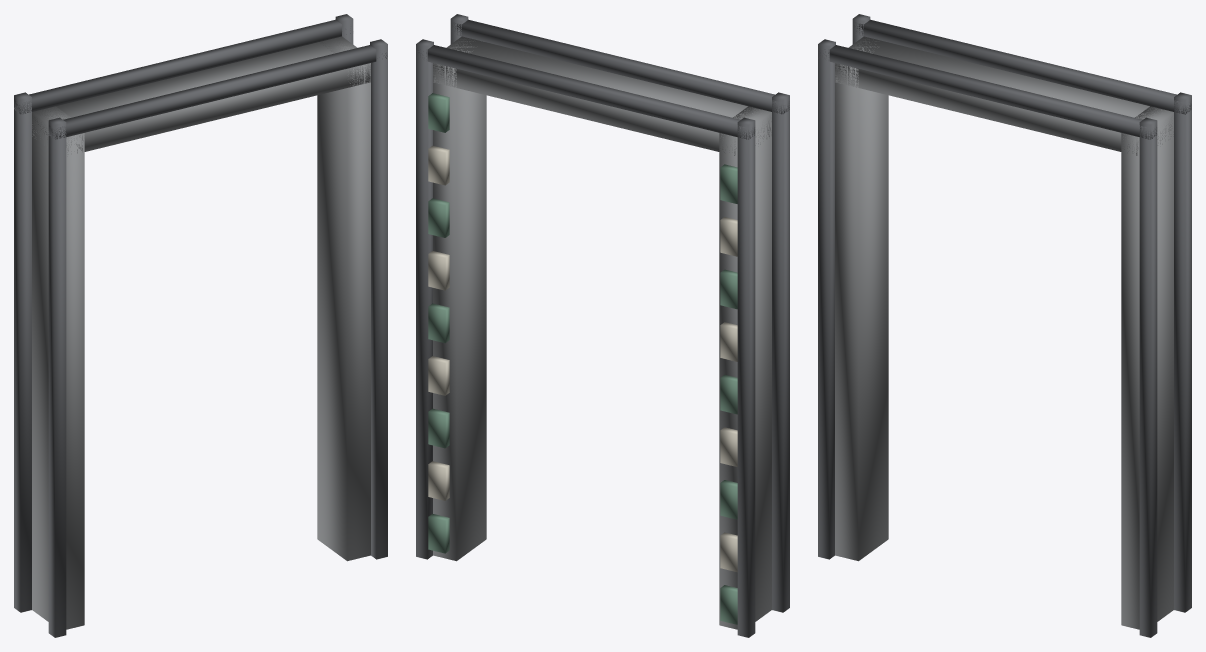
File: doorway_tile_return_w122_h210_d24.glb
3 renders of one model, left to right at view 1: azimuth 30°, elevation 25°; view 2: azimuth 150°, elevation 25°; view 3: azimuth 330°, elevation 25°, orthographic.
Visible parts, largest first — view 1: world; view 2: world; view 3: world.
Boxes of the visible parts, <box> form: world: <box>14,14,387,637</box>; world: <box>416,14,789,637</box>; world: <box>818,14,1191,637</box>.
Bounding box in the file's own units: 1.55 × 2.28 × 0.3296.
